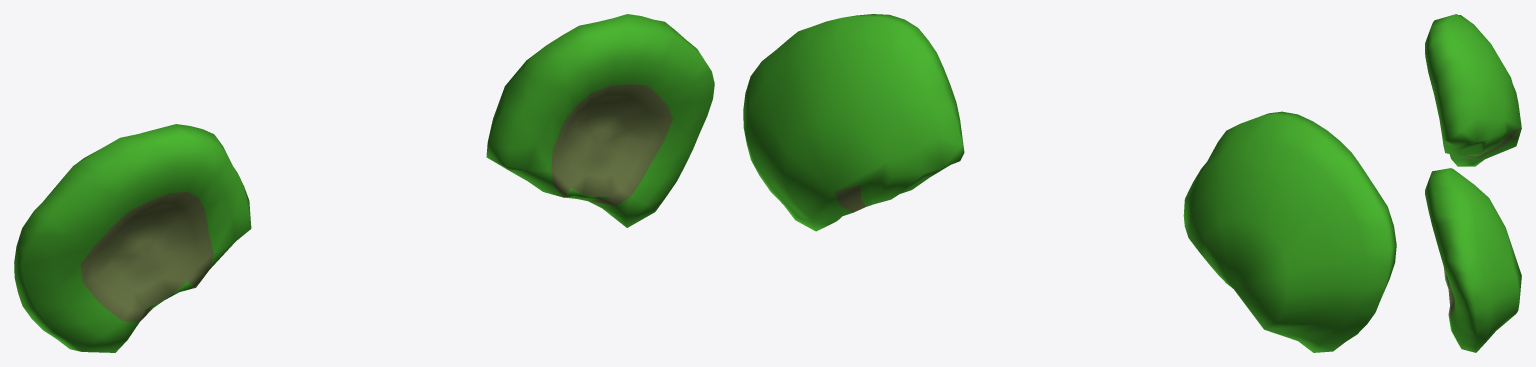
File: Hat_118_03.fbx
The picture shows the model from 3 angles, left to right: view 1: azimuth 30°, elevation 25°; view 2: azimuth 150°, elevation 25°; view 3: azimuth 270°, elevation 25°; orthographic projection. The views are drawn at different scales.
Parts seen in each view (by area): view 1: Hat_118_03; view 2: Hat_118_03; view 3: Hat_118_03.
Boxes of the visible parts, x1,y1,x2,y2 form: Hat_118_03: (14,14,714,352); Hat_118_03: (743,14,1396,352); Hat_118_03: (1425,14,1521,352).
Size of the model in its own units: 33.66 by 10.51 by 5.76.
